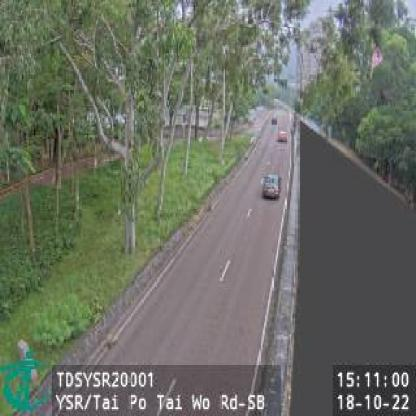Car: (260, 171, 282, 201), (277, 130, 287, 144)
